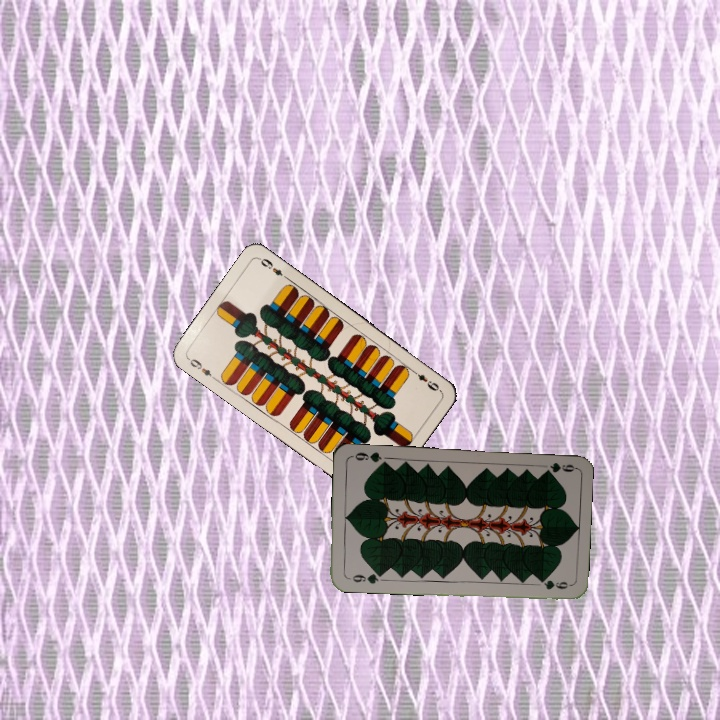E9: (184, 354, 219, 383), (407, 366, 443, 394)
G9: (343, 569, 384, 587), (540, 458, 577, 475)
